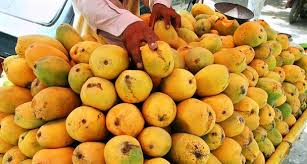mango: (29, 78, 75, 119), (84, 40, 130, 81), (193, 62, 232, 101)
